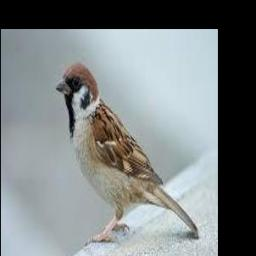Sparrow: (57, 61, 198, 243)
